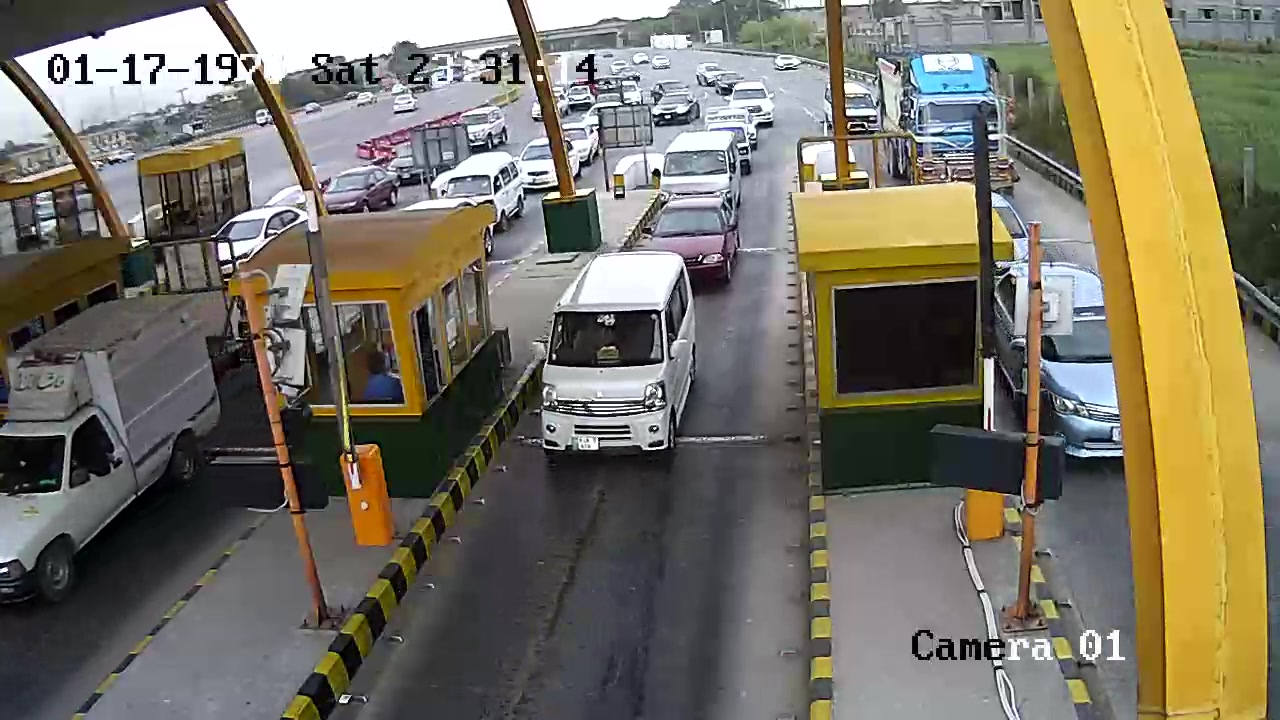F1: (523, 246, 710, 468)
